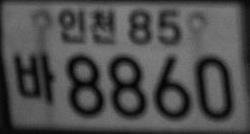0: (196, 56, 233, 120)
5: (157, 9, 181, 46)
6: (154, 57, 191, 120)
8: (109, 55, 147, 118), (66, 54, 104, 116), (128, 8, 152, 45)
바: (12, 53, 55, 103)
인천_H: (58, 7, 115, 44)
